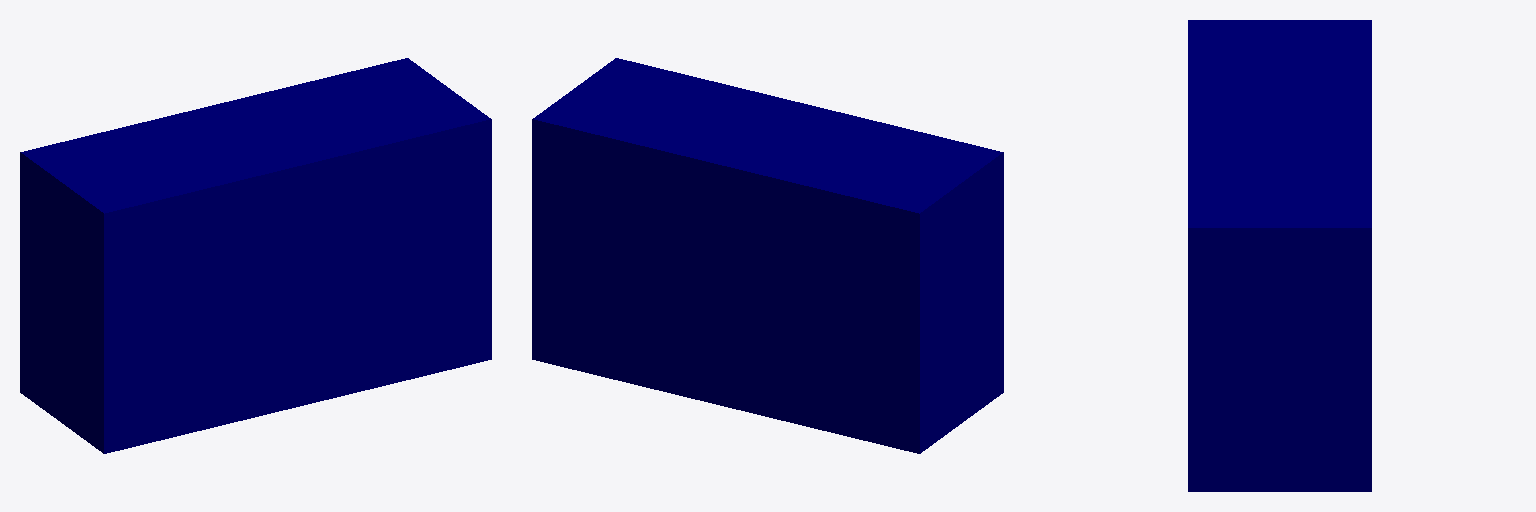
robot.urdf — box.urdf:
<?xml version="0.0" ?>
<robot name="box.urdf">
  <link name="baseLink">
    <contact>
      <lateral_friction value="0.5"/>
      <rolling_friction value="0.0"/>
      <contact_cfm value="0.0"/>
      <contact_erp value="1.0"/>
    </contact>
    <inertial>
      <origin rpy="0 0 0" xyz="0 0 0"/>
       <mass value=".01"/>
       <inertia ixx="1" ixy="0" ixz="0" iyy="1" iyz="0" izz="1"/>
    </inertial>
    <visual>
      <origin rpy="0 0 0" xyz="0 0 0"/>
      <geometry>
				<mesh filename="box.obj" scale="0.16 0.06 0.095"/>
      </geometry>
       <material name="white">
        <color rgba="0 0 0.5 1"/>
      </material>
    </visual>
    <collision>
      <origin rpy="0 0 0" xyz="0 0 0"/>
      <geometry>
	 	<box size="0.16 0.06 0.095"/>
      </geometry>
    </collision>
  </link>
</robot>

--- What the picture shows (computed from the rendered views, not written in the file) ---
3 views of the same robot in one strip: view 1: azimuth 30°, elevation 25°; view 2: azimuth 150°, elevation 25°; view 3: azimuth 270°, elevation 25° (orthographic).
Model box.urdf with 1 links and 0 joints (none), rooted at baseLink, posed every joint at zero.
Links seen in each view (by area): view 1: baseLink; view 2: baseLink; view 3: baseLink.
Link boxes in pixels (x1,y1,x2,y2): baseLink: (20,58,491,453); baseLink: (532,58,1003,453); baseLink: (1188,20,1371,491).
Bounding box of the posed robot: 0.16 × 0.06 × 0.095 m (x, y, z).
Meshes: 1 distinct files referenced, 1 mesh visuals loaded (1 OBJ).